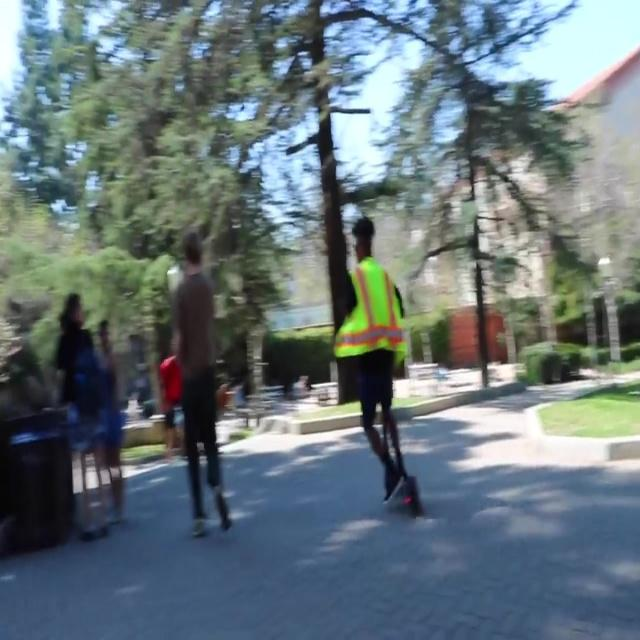vest: (329, 342, 409, 486)
